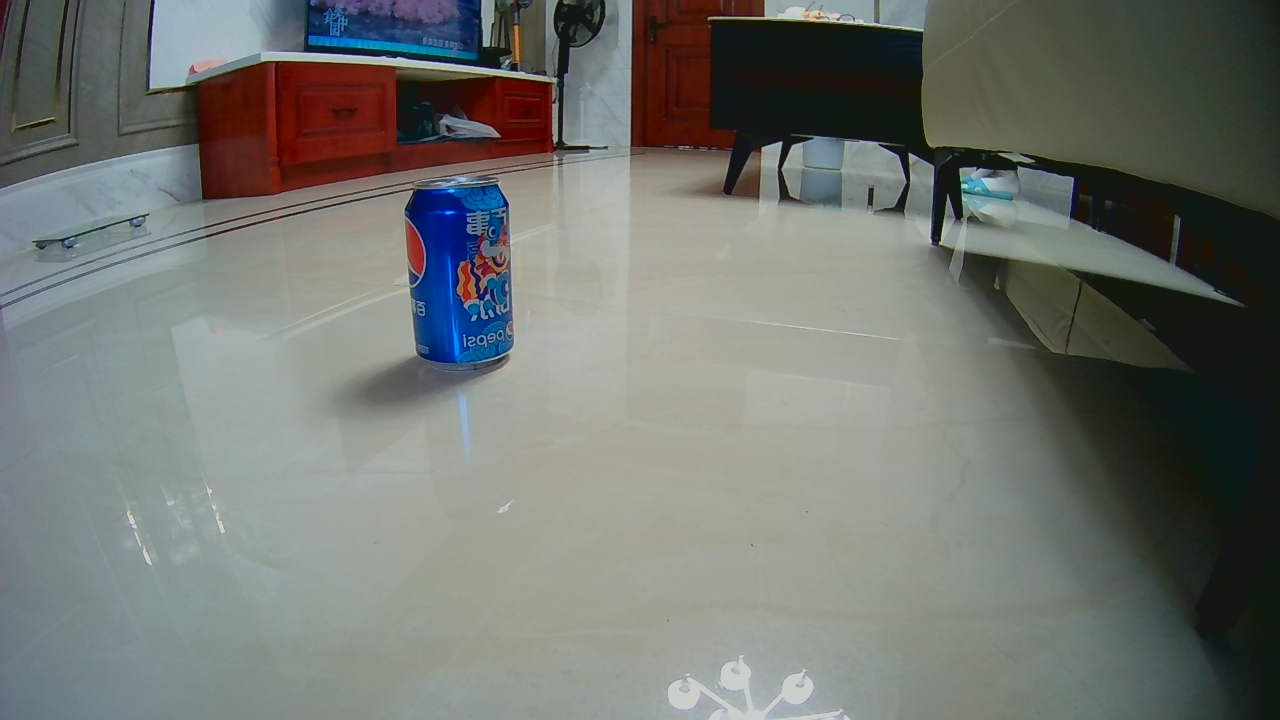pessi: (393, 178, 515, 376)
